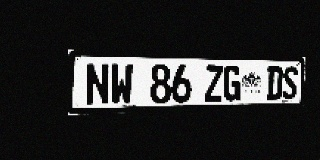6: (171, 64, 192, 103)
8: (150, 64, 171, 104)
D: (267, 66, 283, 100)
G: (223, 65, 241, 101)
N: (85, 63, 109, 106)
S: (282, 66, 298, 99)
W: (110, 63, 133, 105)
Z: (205, 65, 223, 102)
